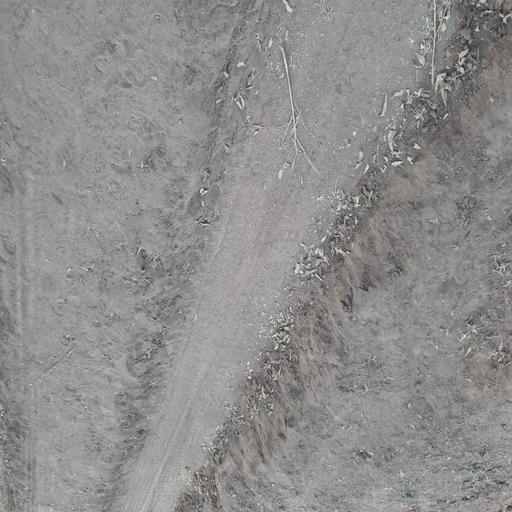vehicle_track: (113, 0, 468, 512)
